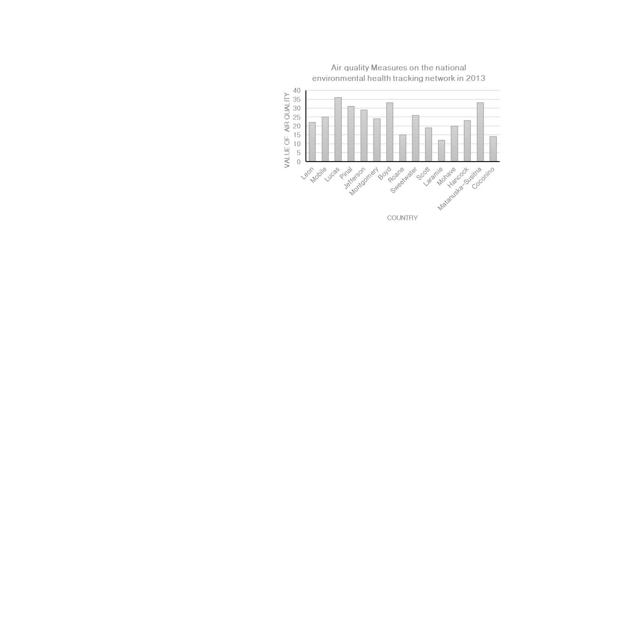Graph: (278, 60, 504, 224)
